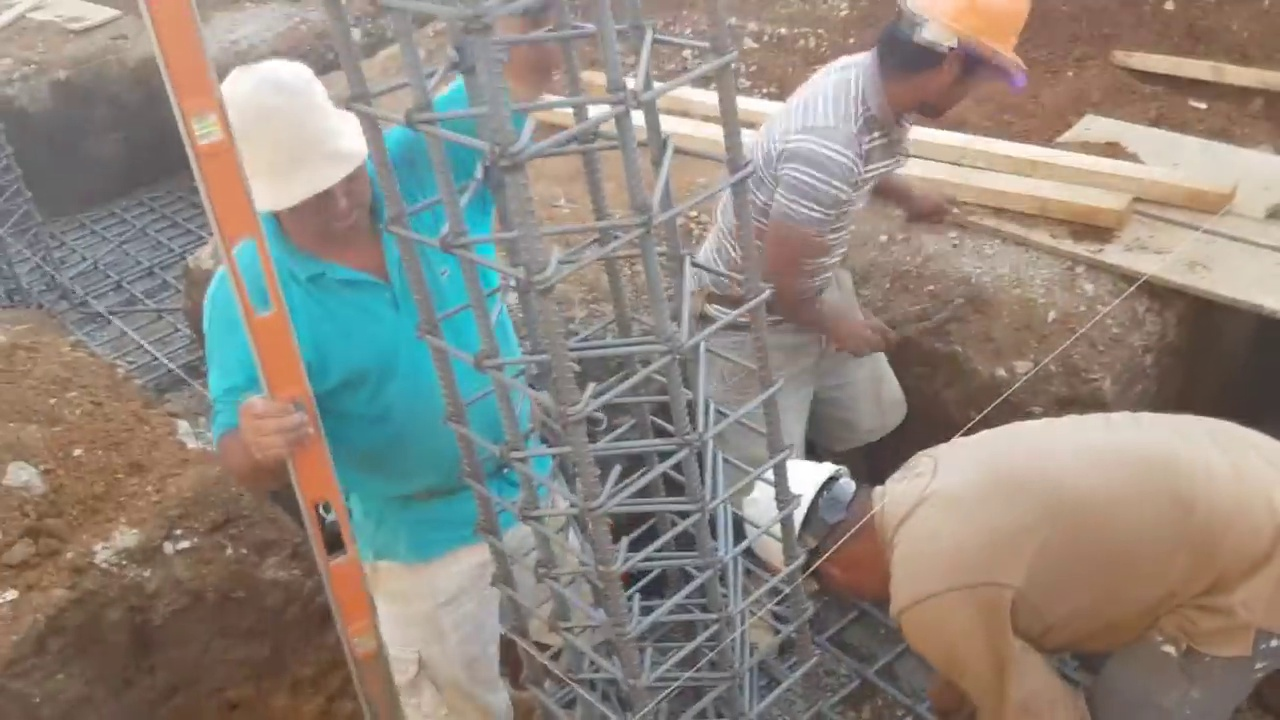helmet: (740, 461, 842, 584), (891, 1, 1029, 73)
helmet-off: (210, 56, 377, 267)
helmet-on: (872, 4, 1048, 126), (735, 456, 867, 600)
person: (172, 16, 584, 720), (703, 0, 1053, 475), (727, 416, 1280, 712), (424, 374, 655, 710)
